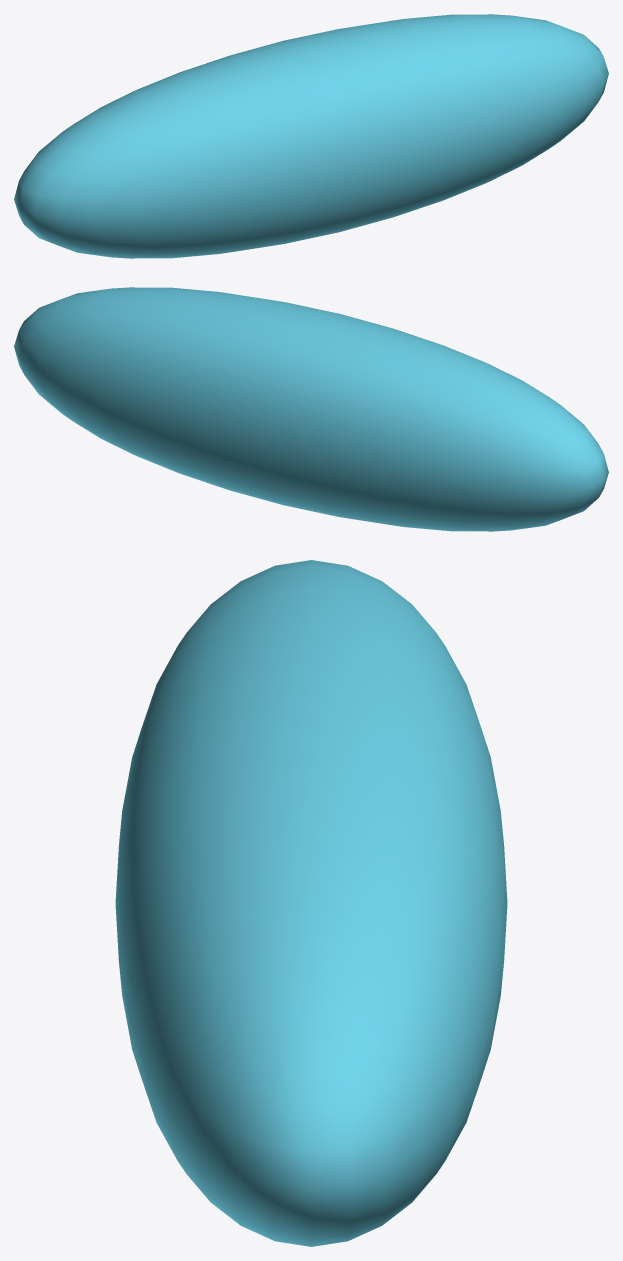
The model's file is citoso v1 .glb.
3 renders of one model, top to bottom at view 1: azimuth 30°, elevation 25°; view 2: azimuth 150°, elevation 25°; view 3: azimuth 270°, elevation 25°, orthographic. The views are drawn at different scales.
Visible parts, largest first — view 1: Cube; view 2: Cube; view 3: Cube.
Boxes of the visible parts, bbox=[...] form: Cube: bbox=[14, 14, 608, 258]; Cube: bbox=[14, 287, 608, 531]; Cube: bbox=[115, 560, 507, 1246].
Size of the model in its own units: 7.88 by 2.29 by 2.29.
